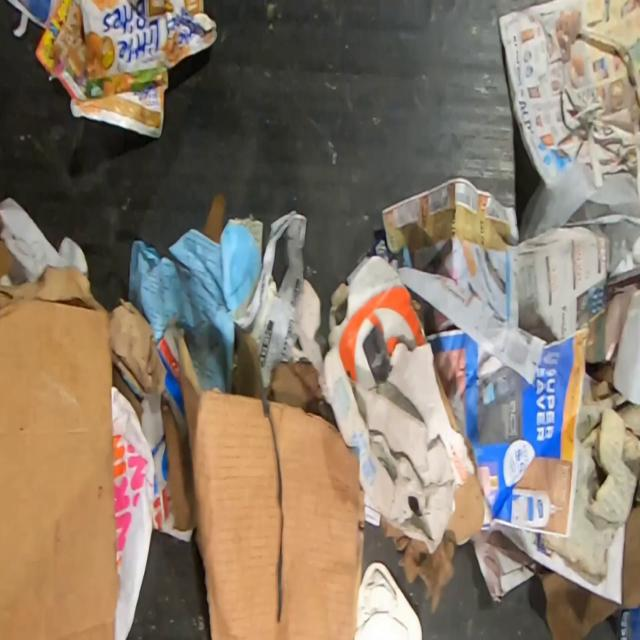cardboard: (266, 253, 485, 615), (161, 336, 366, 640), (0, 263, 121, 640), (33, 0, 217, 139), (109, 297, 192, 543), (202, 190, 227, 245), (0, 239, 16, 279)
soft_plastic: (519, 159, 640, 275), (110, 387, 156, 639)
